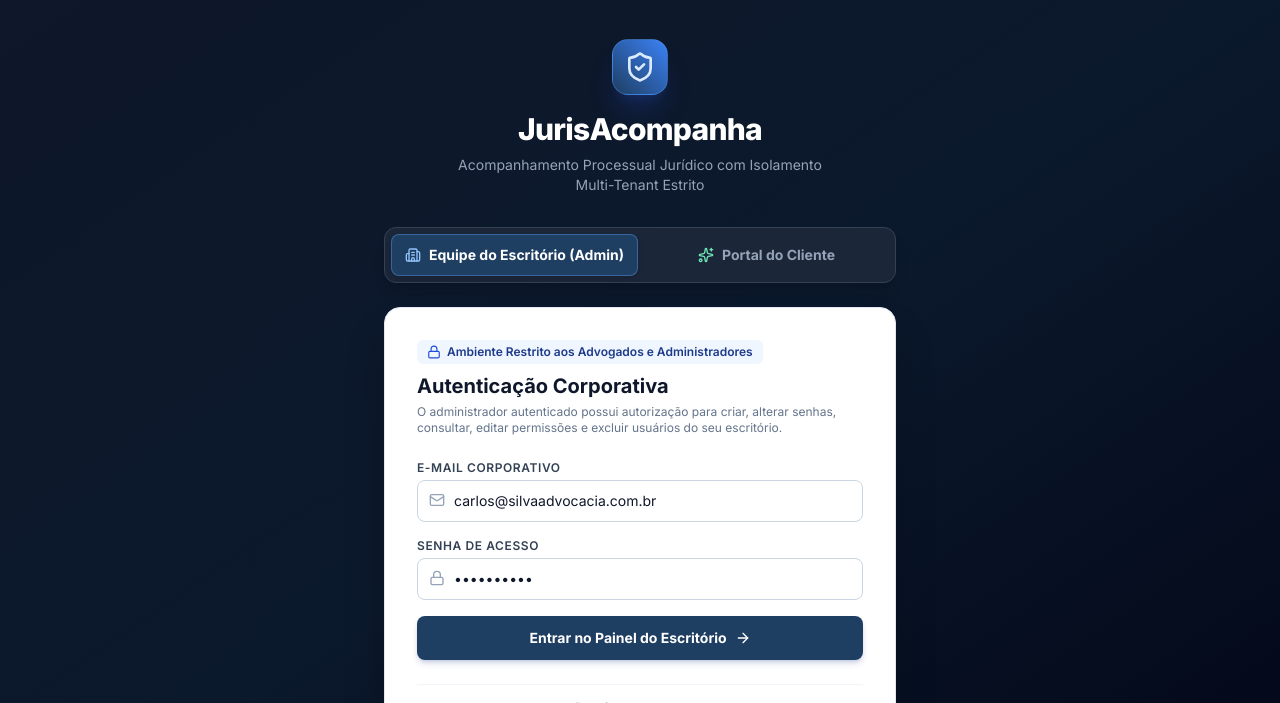
Test: Fluxo de Abertura do Sistema e Telas de Login › 3. Deve permitir alternar para a aba Portal do Cliente e autenticar cliente Mariana Oliveira
Note: Alterna para a aba do cliente
Click the button "Portal do Cliente" at (766, 255), box [644,234,889,276]
(page scrolled)
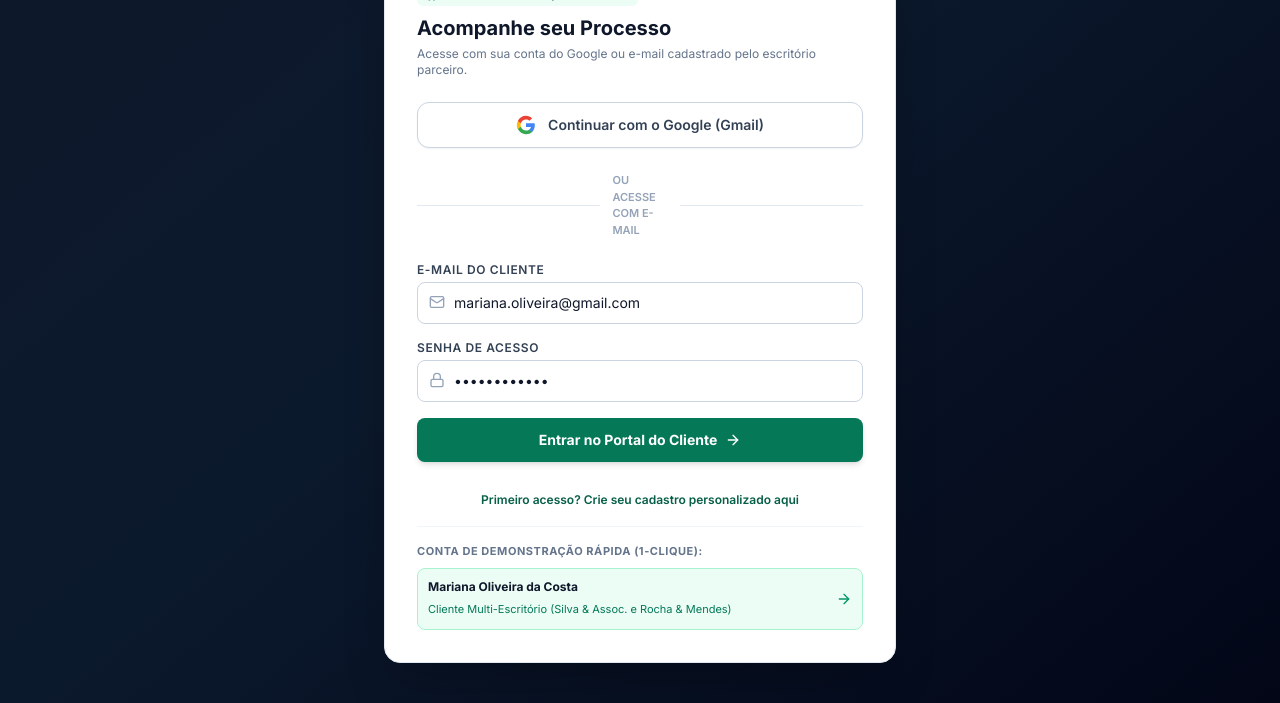
Check: the heading "Acompanhe seu Processo" is shown, box [417,16,671,40]
Check: the text "Continuar com o Google (Gmail)" is shown, box [548,115,764,135]
Note: Clica no acesso rápido de Mariana Oliveira
Click the text "Mariana Oliveira da Costa" at (503, 586), box [428,578,578,594]
(page scrolled)
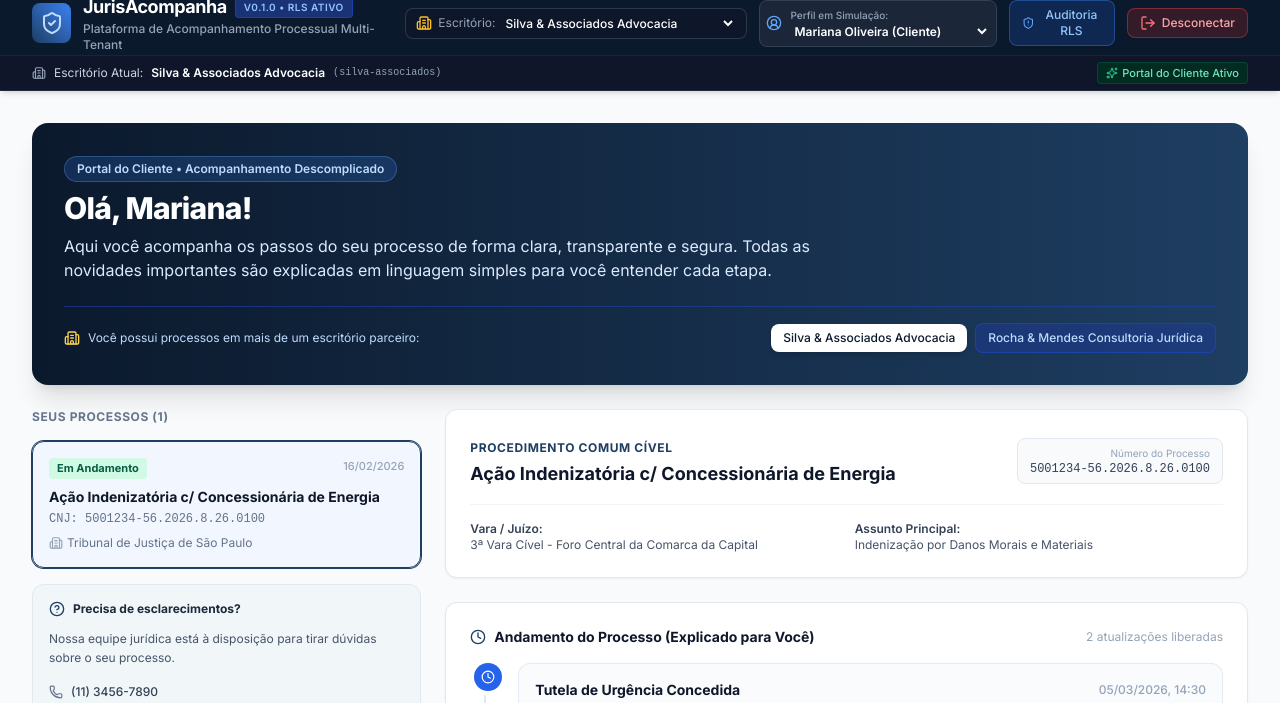
Check: the text "Portal do Cliente • Acompanhamento Descomplicado" is shown, box [77,161,384,177]
Check: the heading "Olá, Mariana!" is shown, box [64,190,252,226]
